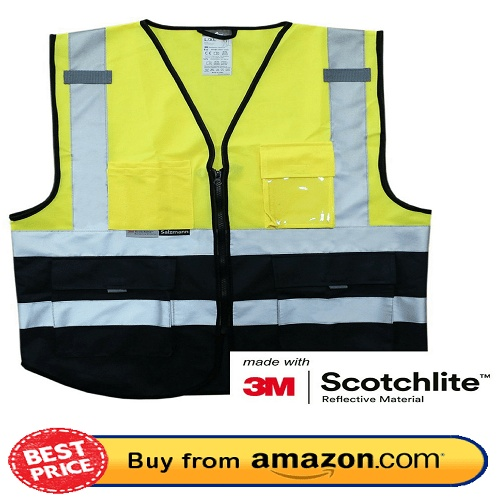safety vest: (20, 27, 431, 402)
